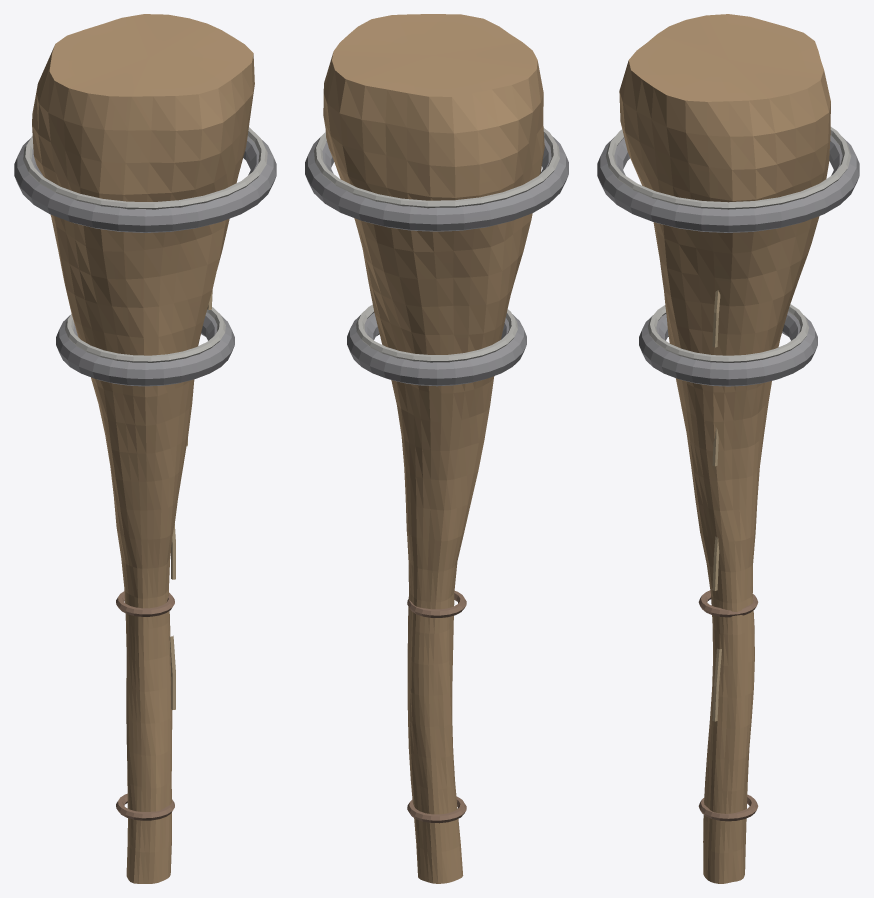
Rendered from knots.glb.
The picture shows the model from 3 angles, left to right: view 1: azimuth 30°, elevation 25°; view 2: azimuth 150°, elevation 25°; view 3: azimuth 270°, elevation 25°; orthographic projection.
Visible parts, largest first — view 1: knots; view 2: knots; view 3: knots.
Part boxes in pixels (x1,y1,x2,y2): knots: (14,14,276,883); knots: (305,14,568,883); knots: (597,14,859,883).
Bounding box in the file's own units: 0.176 × 0.6 × 0.175.
